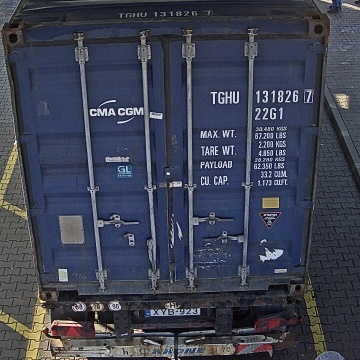serial_id: (209, 89, 313, 104)
